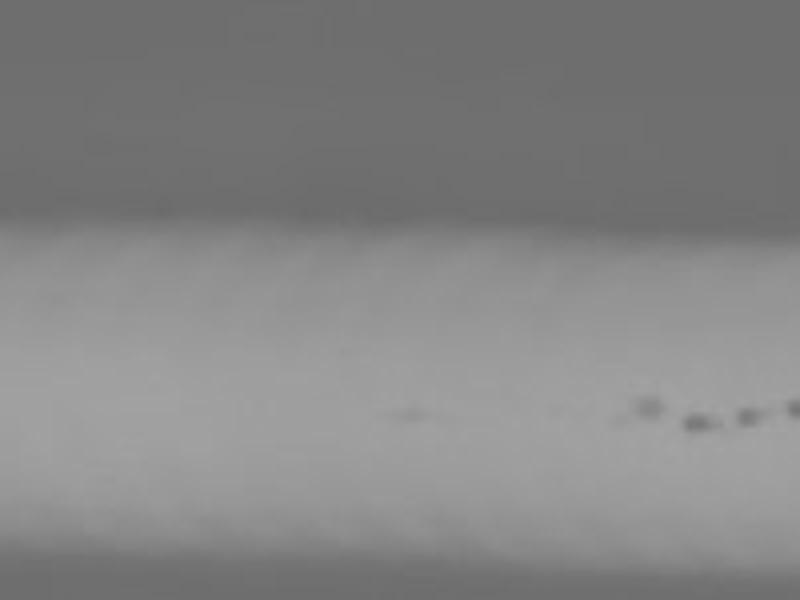defect: (734, 405, 763, 433), (679, 410, 712, 433), (390, 402, 427, 419), (639, 399, 662, 420), (790, 404, 800, 419)
